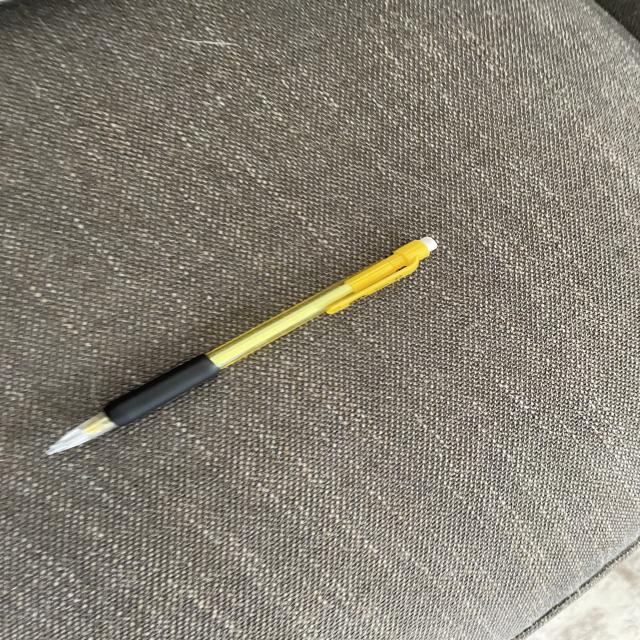mechanical-pencils: (34, 239, 442, 463)
